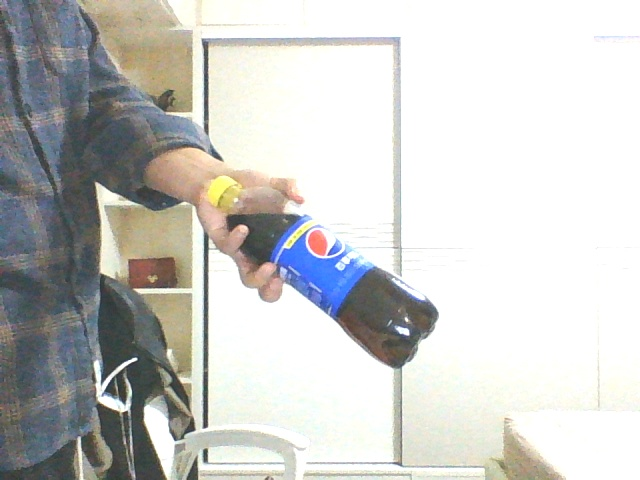Cola: (206, 177, 438, 368)
